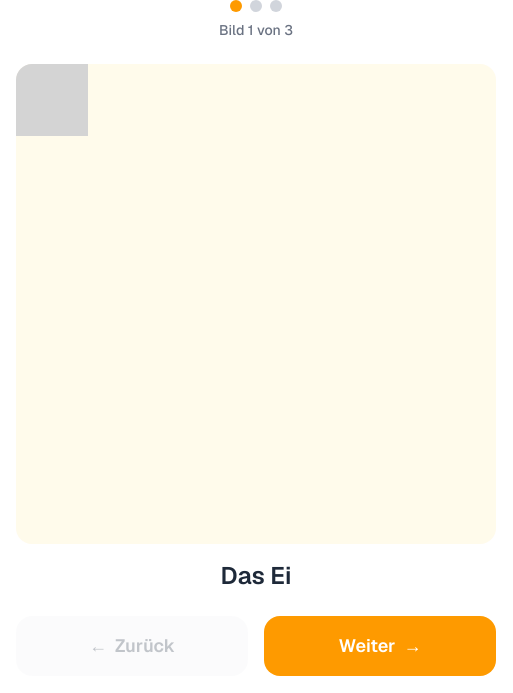
Test: SequenceViewer › shows 'Quiz starten' text on last item
The width and height of the screenshot is (513, 693).
Step 1. Click the button labelled "Weiter →" → {"x": 380, "y": 646}, box [264,616,496,676]
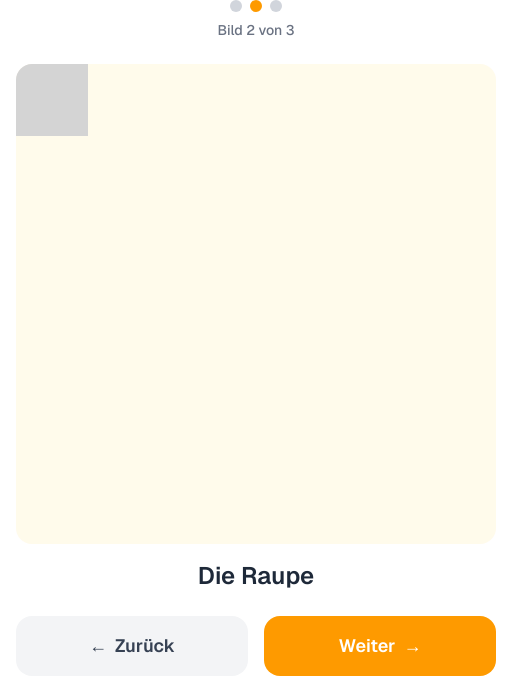
Step 2. Click the button labelled "Weiter →" → {"x": 380, "y": 646}, box [264,616,496,676]
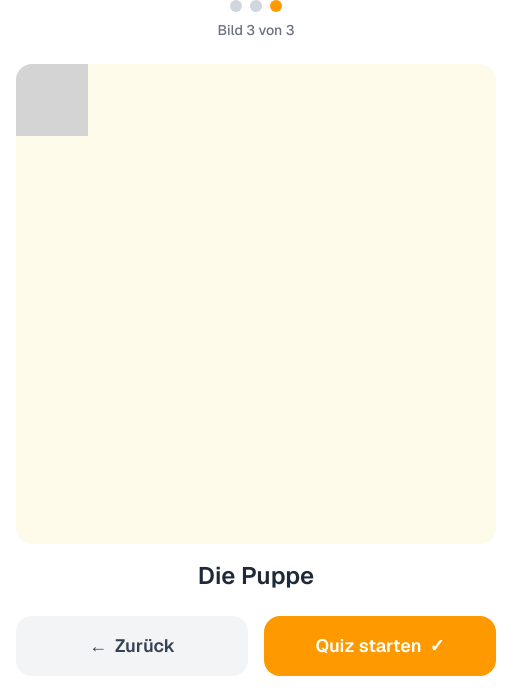
Now the text "Quiz starten" is shown, box [315,632,422,660]
